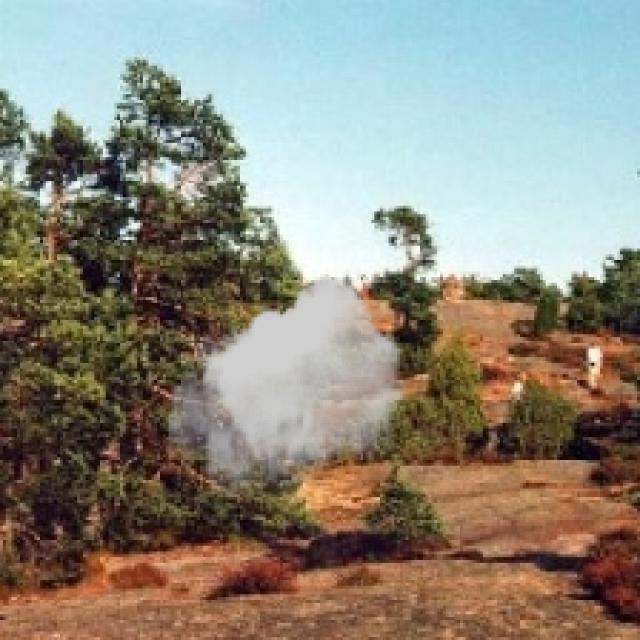smoke: (168, 277, 406, 497)
